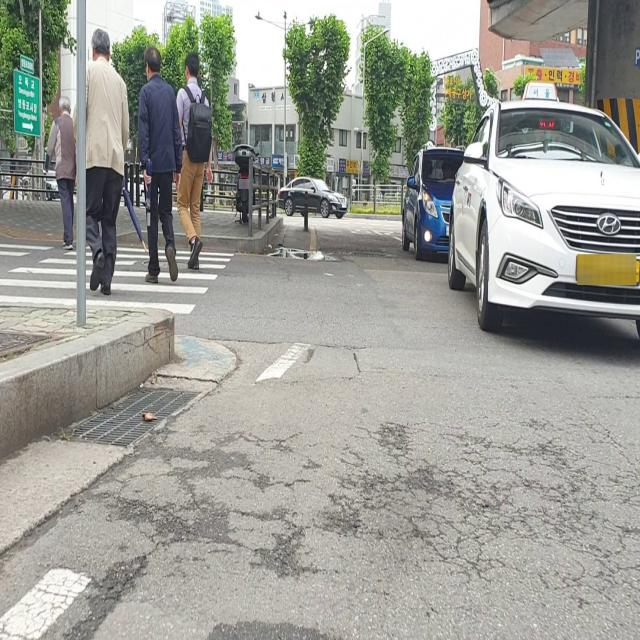횡단보도: (0, 243, 236, 316)
